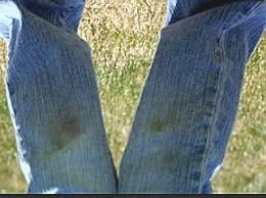earth: (50, 117, 80, 149), (147, 119, 172, 135)
